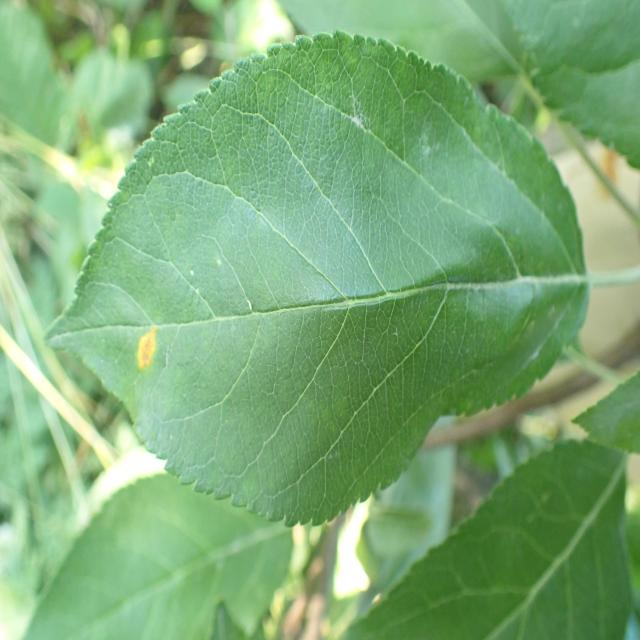rust: (44, 29, 590, 528)
